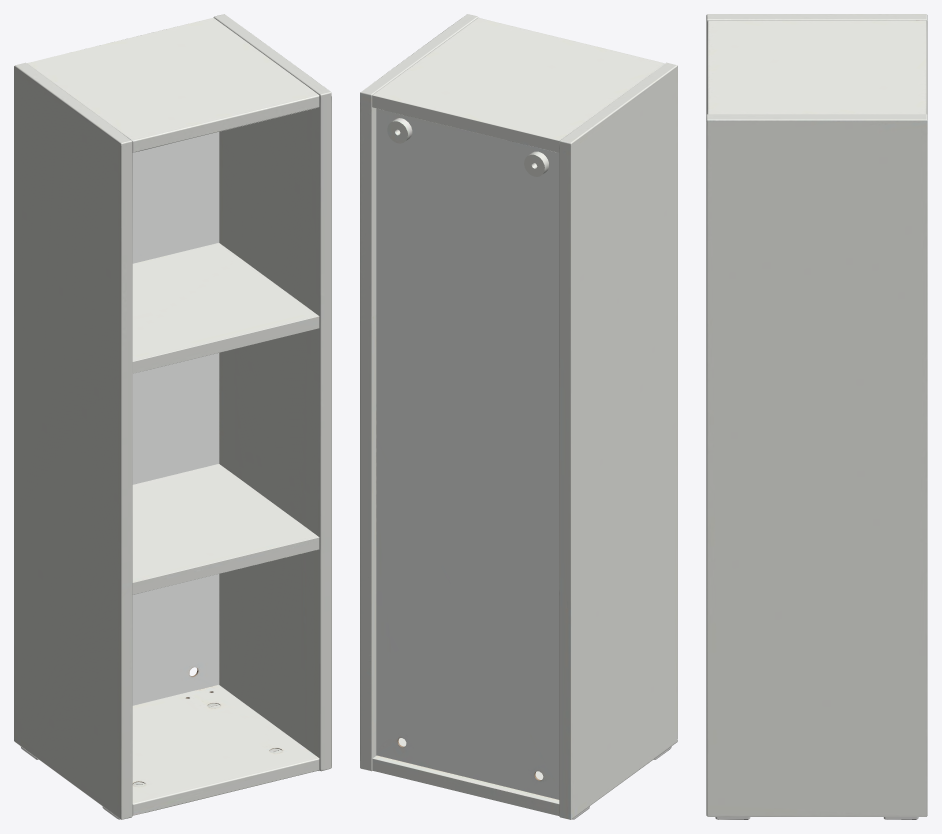
The picture shows the model from 3 angles, left to right: view 1: azimuth 30°, elevation 25°; view 2: azimuth 150°, elevation 25°; view 3: azimuth 270°, elevation 25°; orthographic projection. The views are drawn at different scales.
Parts seen in each view (by area): view 1: 60465529-SMÃƒâ€¦GÃƒâ€“RA001; view 2: 60465529-SMÃƒâ€¦GÃƒâ€“RA001; view 3: 60465529-SMÃƒâ€¦GÃƒâ€“RA001.
Part boxes in pixels (x1,y1,x2,y2): 60465529-SMÃƒâ€¦GÃƒâ€“RA001: [14, 14, 331, 819]; 60465529-SMÃƒâ€¦GÃƒâ€“RA001: [360, 14, 677, 819]; 60465529-SMÃƒâ€¦GÃƒâ€“RA001: [706, 14, 927, 819].
Size of the model in its own units: 0.2841 by 0.875 by 0.25.
1 material, 1 textured.
